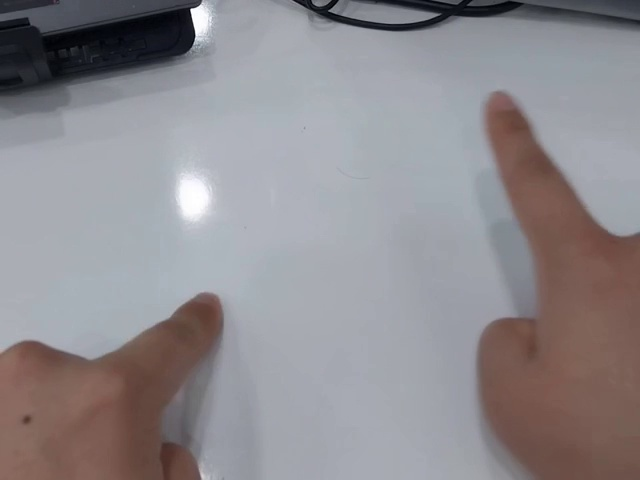fingers: (175, 291, 222, 344), (483, 88, 527, 134)
